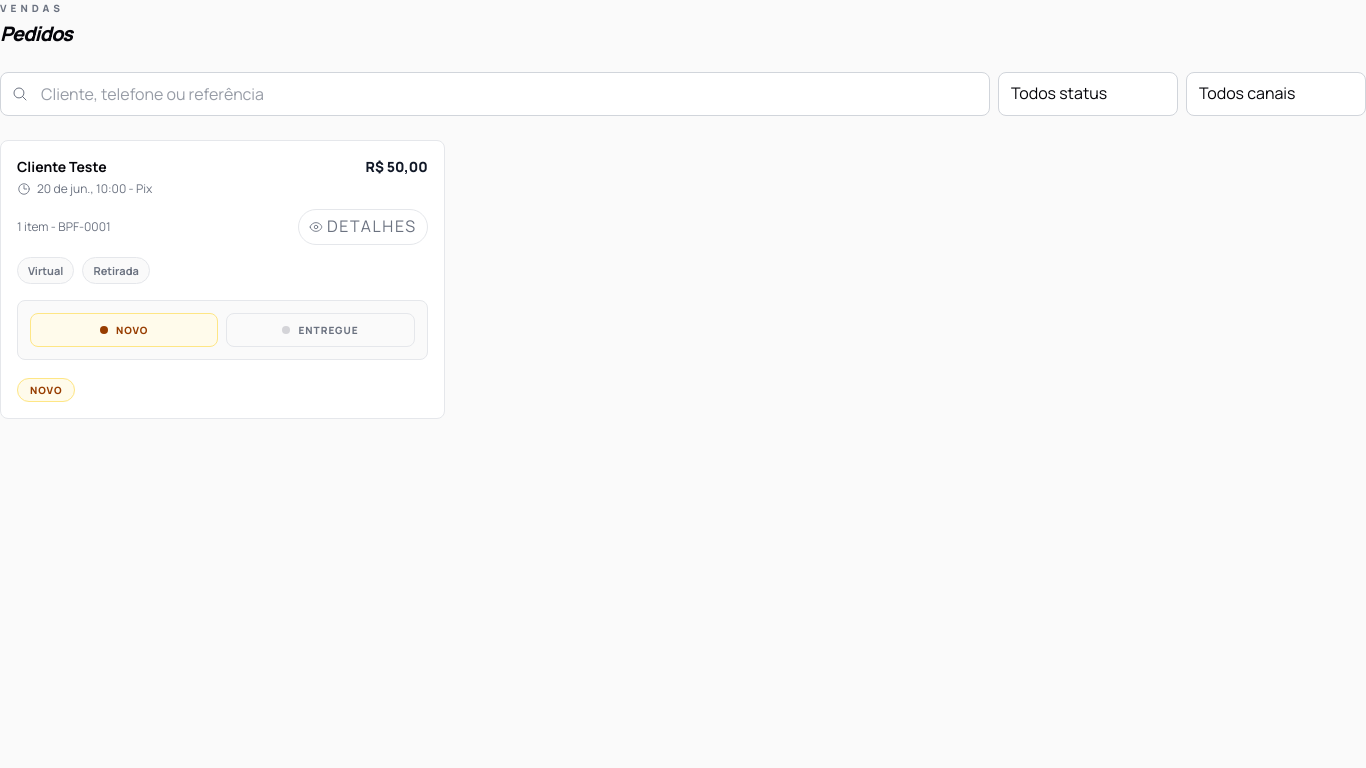
DashboardOrdersView › shows an error message when the order detail fetch fails
Click the button with test id "sale-detail-button" at (363, 227), box [298, 209, 428, 245]
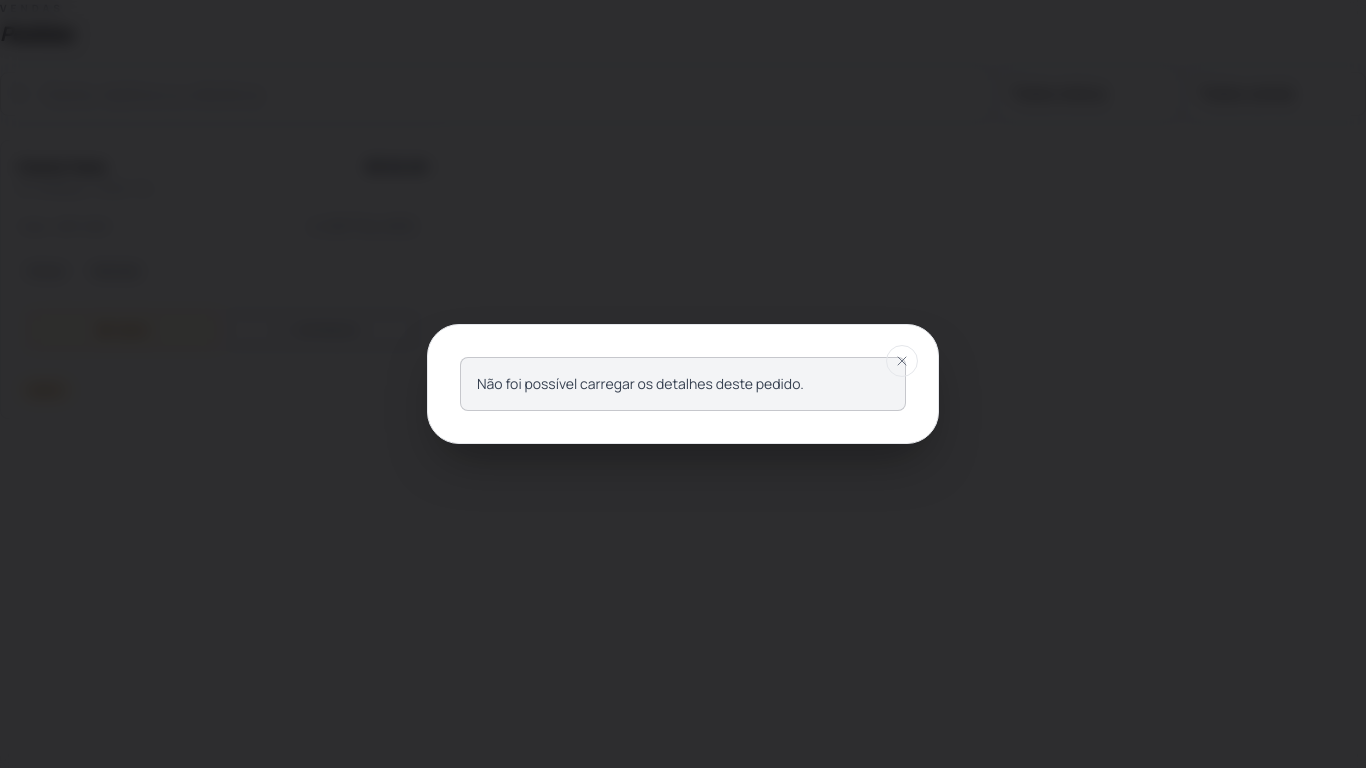
Expected: the text "Não foi possível carregar os detalhes deste pedido." is shown, [460, 357, 906, 411]
